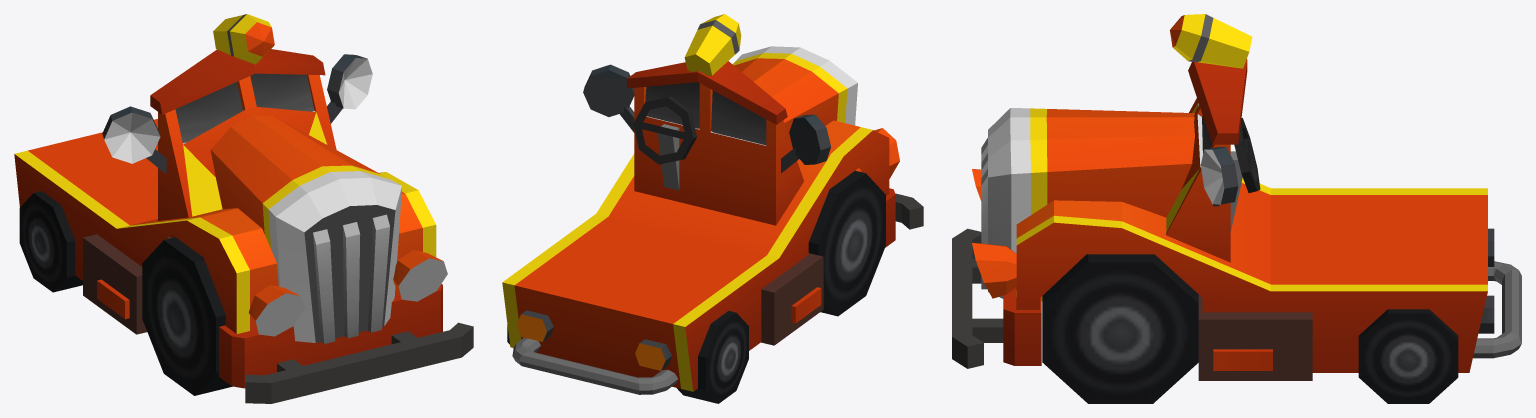
File: head_FireEngine.fbx
3 views of the same model, side by side, from view 1: azimuth 30°, elevation 25°; view 2: azimuth 150°, elevation 25°; view 3: azimuth 270°, elevation 25° (orthographic). The views are drawn at different scales.
Parts seen in each view (by area): view 1: head_FireEngine; view 2: head_FireEngine; view 3: head_FireEngine.
Part boxes in pixels (left/top/right/bottom): head_FireEngine: left=14, top=14, right=473, bottom=403; head_FireEngine: left=502, top=14, right=923, bottom=403; head_FireEngine: left=952, top=14, right=1521, bottom=403.
Size of the model in its own units: 1563 by 1752 by 2708.
